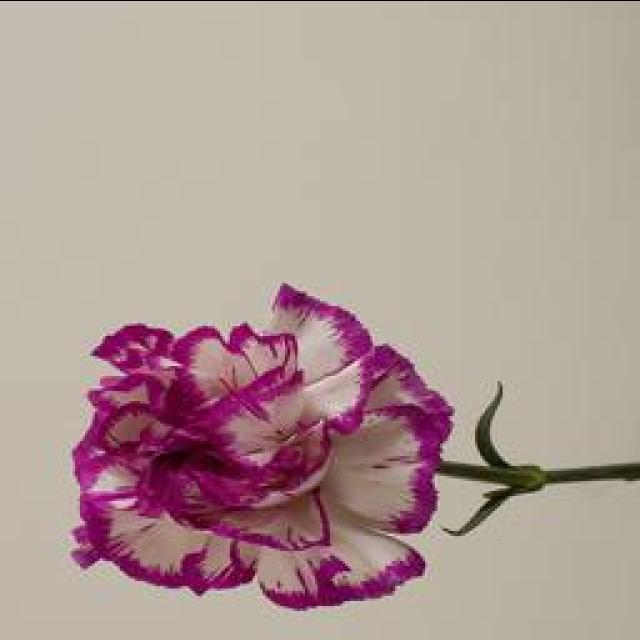carnation: (54, 280, 462, 626)
